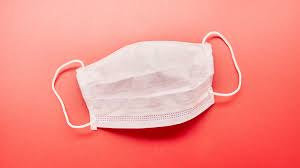flumask: (85, 42, 215, 124)
